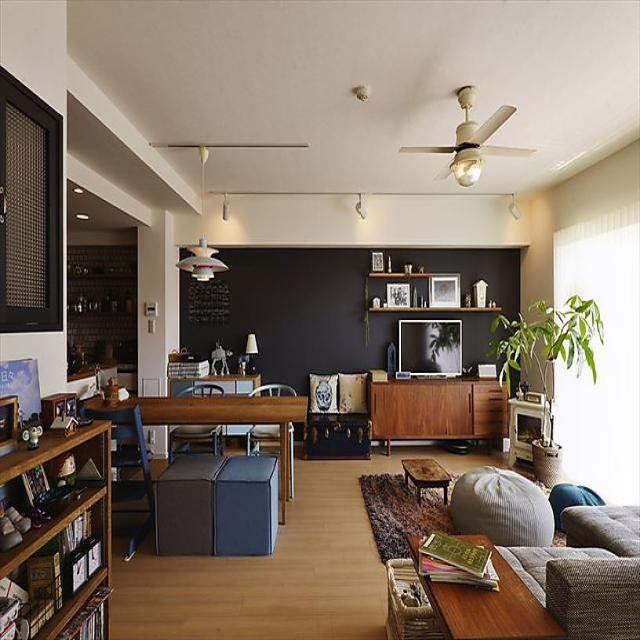vintage chair: (161, 452, 278, 554)
vintage desk: (82, 390, 312, 526), (404, 457, 450, 508)
vintage shelf: (368, 372, 513, 458)
